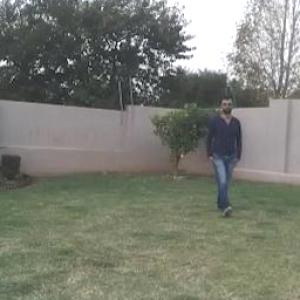follow: (205, 95, 244, 216)
